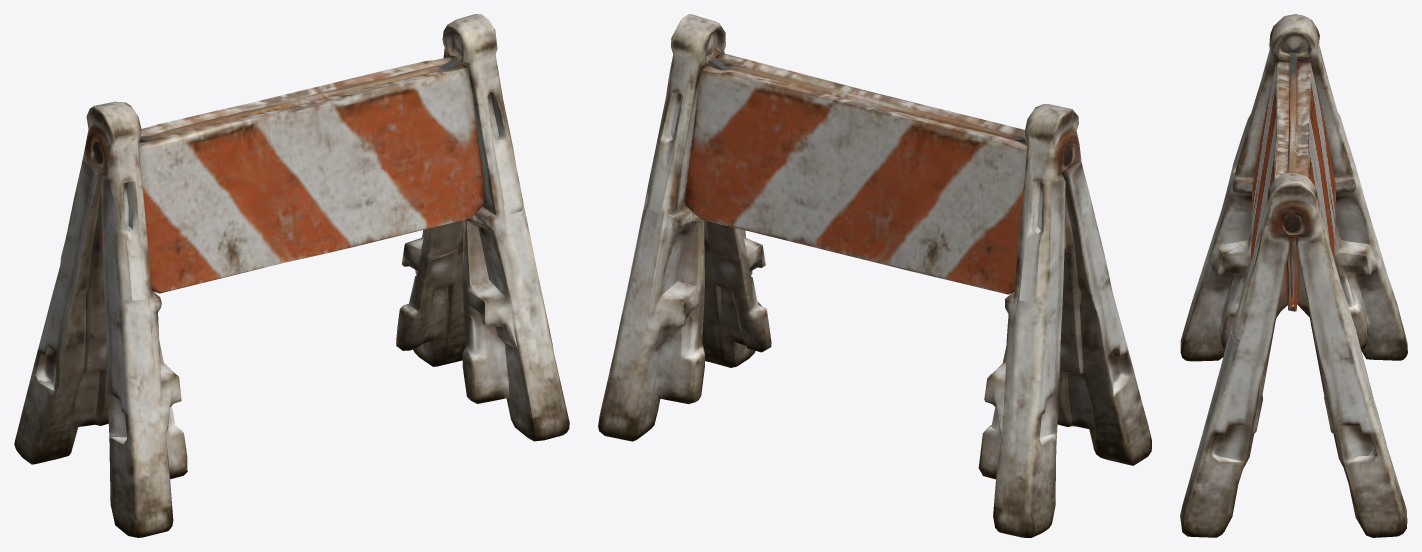
The model's file is p7-folding-barricade.glb.
3 views of the same model, side by side, from view 1: azimuth 30°, elevation 25°; view 2: azimuth 150°, elevation 25°; view 3: azimuth 270°, elevation 25° (orthographic). The views are drawn at different scales.
Parts seen in each view (by area): view 1: p7-folding-barricade; view 2: p7-folding-barricade; view 3: p7-folding-barricade.
Part boxes in pixels (bbox=[...]): p7-folding-barricade: bbox=[14, 14, 569, 537]; p7-folding-barricade: bbox=[598, 14, 1151, 537]; p7-folding-barricade: bbox=[1180, 14, 1407, 537].
Size of the model in its own units: 1.2 by 1 by 0.6.
Materials: 1 (1 with a texture image).
